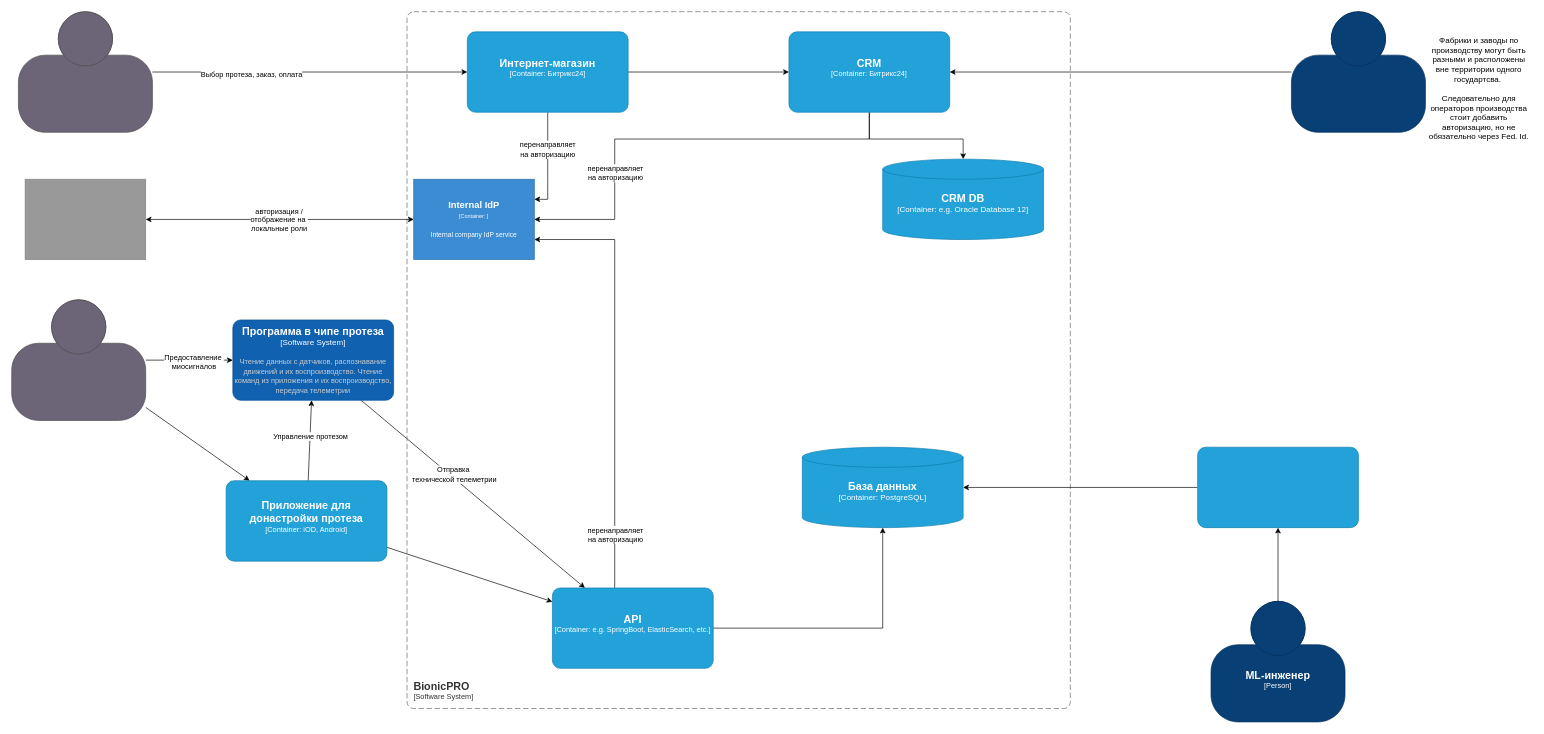
Some shapes in this 1544 by 734 pixel diagram are drawn without their labels. Here are the shapes that lost their labels. From the top down, the centre of each, then its label:
At point 85,71: "Покупатель протеза [Person]".
At point 1358,71: "Оператор производства [Person]".
At point 85,219: "Ext. Federated Identity [Software System ] External Federated Identity service".
At point 78,359: "Пилот протеза [Person] С этого человека считываются данные".
At point 1277,487: "cli tool [Container: e.g. SpringBoot, ElasticSearch, etc.]".
